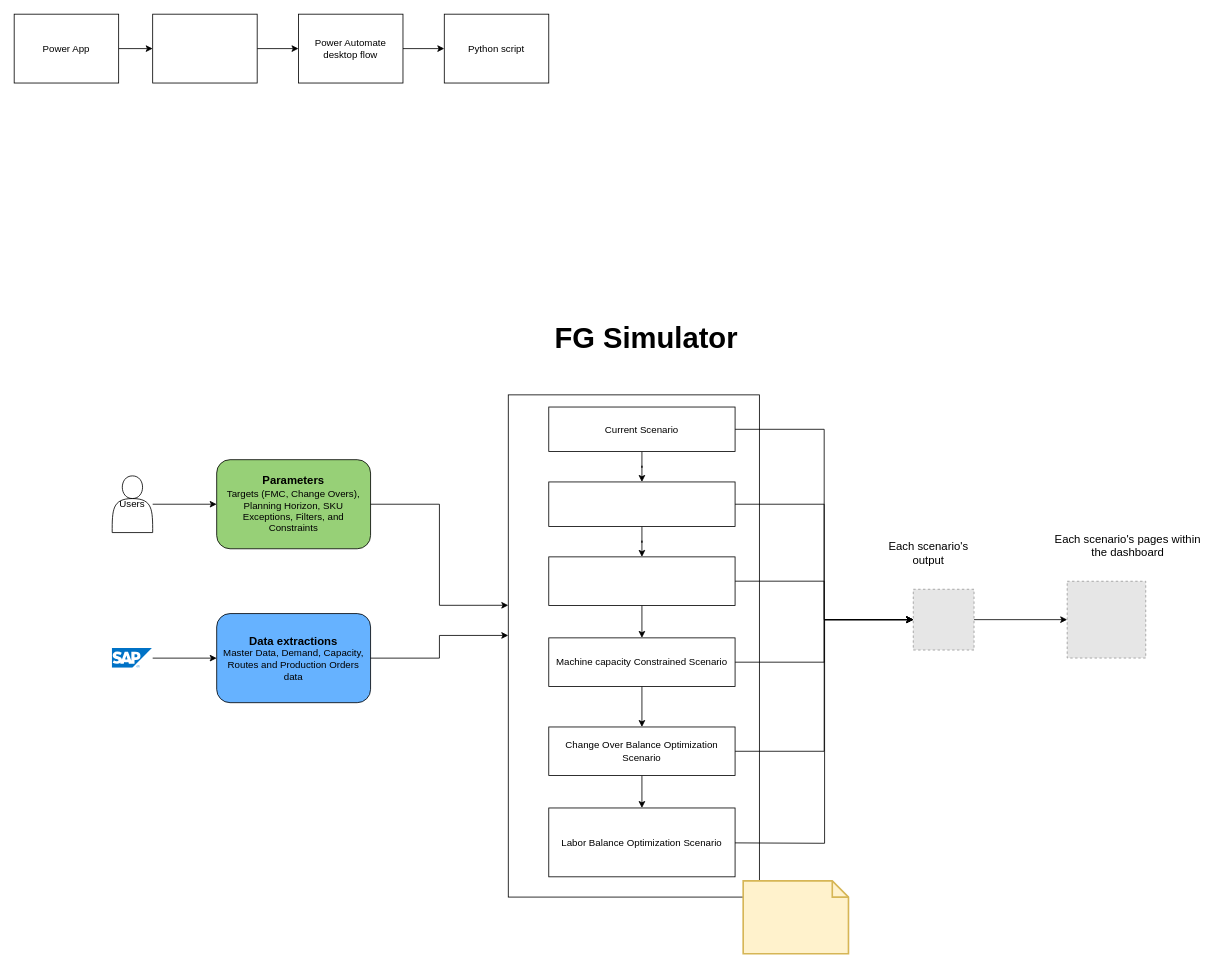
Some shapes in this 1219 by 969 pixel diagram are drawn without their labels. Grey dashed boxes stand in for pictures. The shapes that lost their labels are listed below. From the top down, each one's box as (x1, y1, x2, y2) in pixels, then its label:
(152, 13, 257, 83): Power Automate Cloud Flow
(548, 481, 735, 526): Unconstrained Scenario
(548, 556, 735, 605): FMC Constrained Scenario
(112, 648, 152, 668): SAP as Data Source
(742, 880, 849, 954): Approximately 8-10 min per scenario
